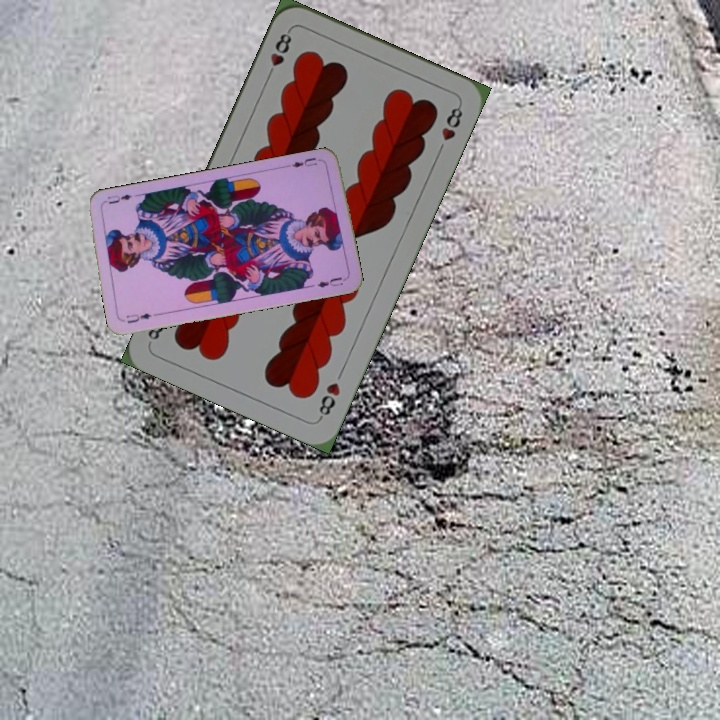EU: (284, 153, 324, 170), (122, 309, 154, 326)
H8: (263, 26, 295, 82), (314, 378, 343, 422)
